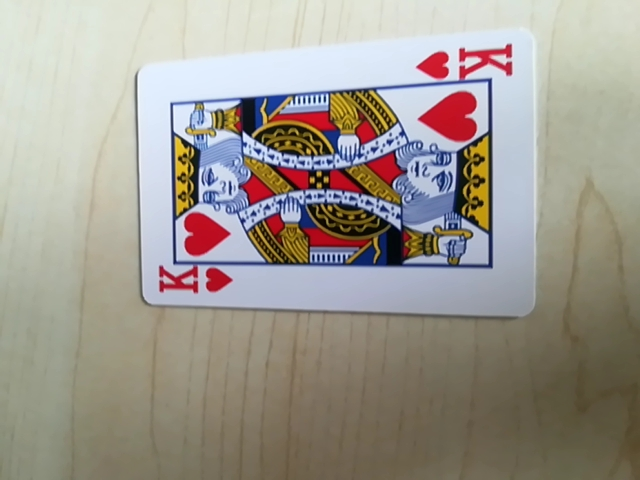hx k: (417, 39, 520, 87), (152, 262, 233, 303)
